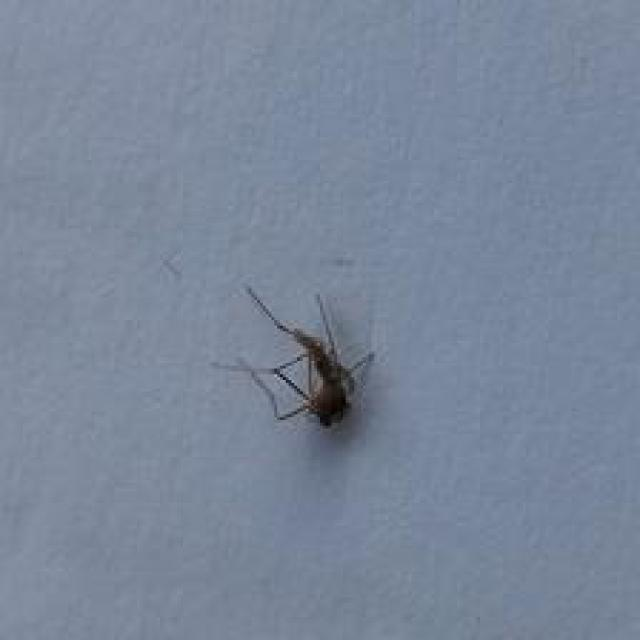Culex: (212, 284, 377, 430)
